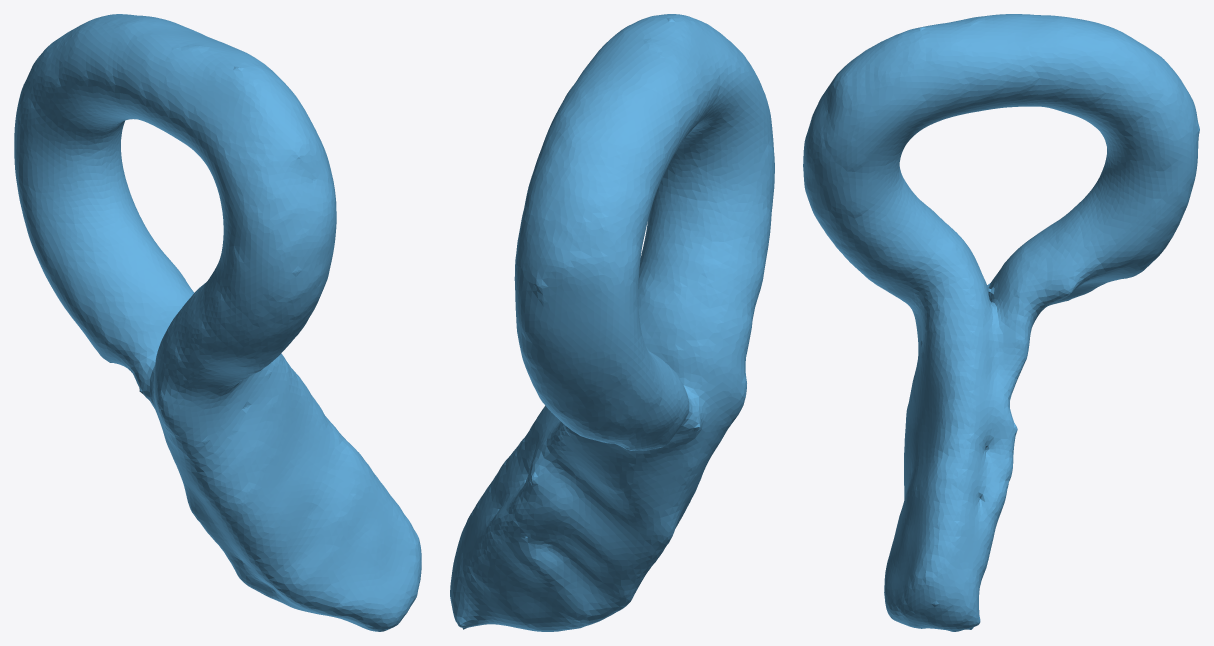
File: scarf.obj
3 renders of one model, left to right at view 1: azimuth 30°, elevation 25°; view 2: azimuth 150°, elevation 25°; view 3: azimuth 270°, elevation 25°, orthographic. The views are drawn at different scales.
Size of the model in its own units: 0.3169 by 0.6401 by 0.4289.
